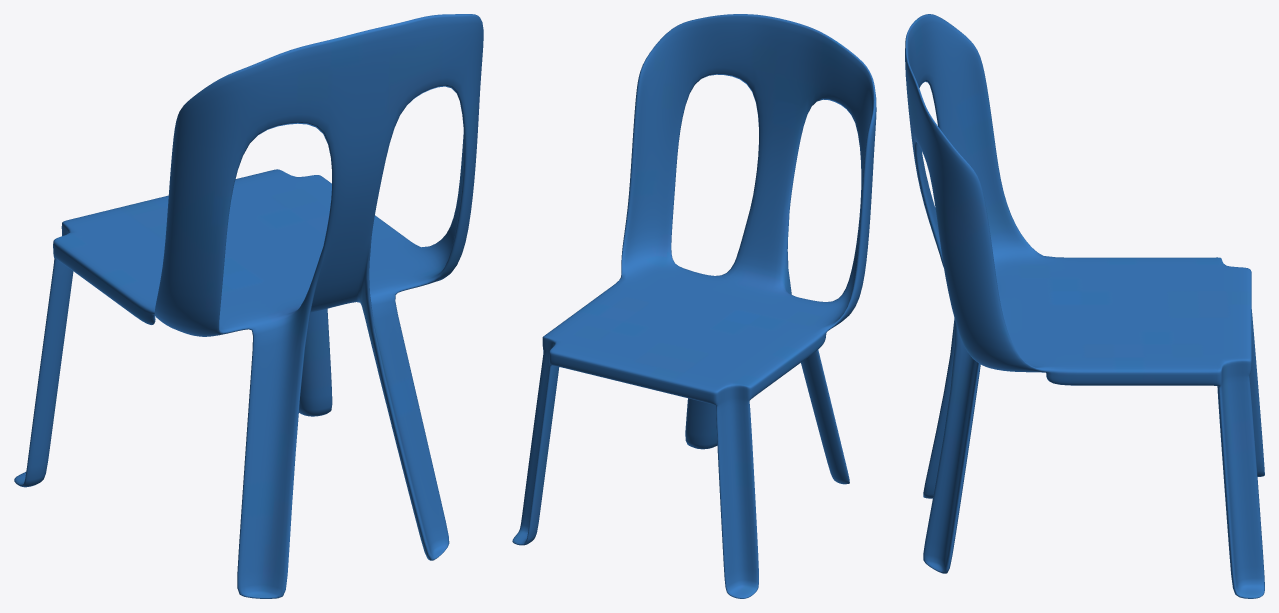
File: Chair27.glb
3 renders of one model, left to right at view 1: azimuth 30°, elevation 25°; view 2: azimuth 150°, elevation 25°; view 3: azimuth 270°, elevation 25°, orthographic. The views are drawn at different scales.
Visible parts, largest first — view 1: Chair27_model; view 2: Chair27_model; view 3: Chair27_model.
Boxes of the visible parts, bbox=[...] form: Chair27_model: bbox=[14, 14, 483, 598]; Chair27_model: bbox=[512, 14, 876, 598]; Chair27_model: bbox=[905, 14, 1264, 598].
Size of the model in its own units: 1.14 by 1.99 by 1.32.
1 material, 1 textured.
